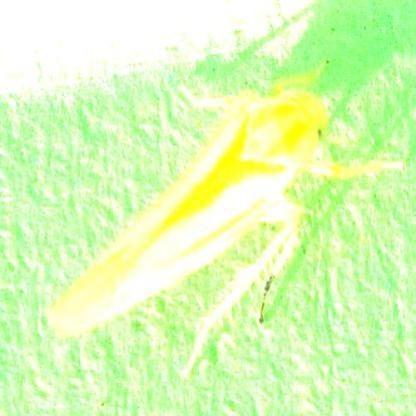green-leafhopper: (56, 80, 345, 342)
